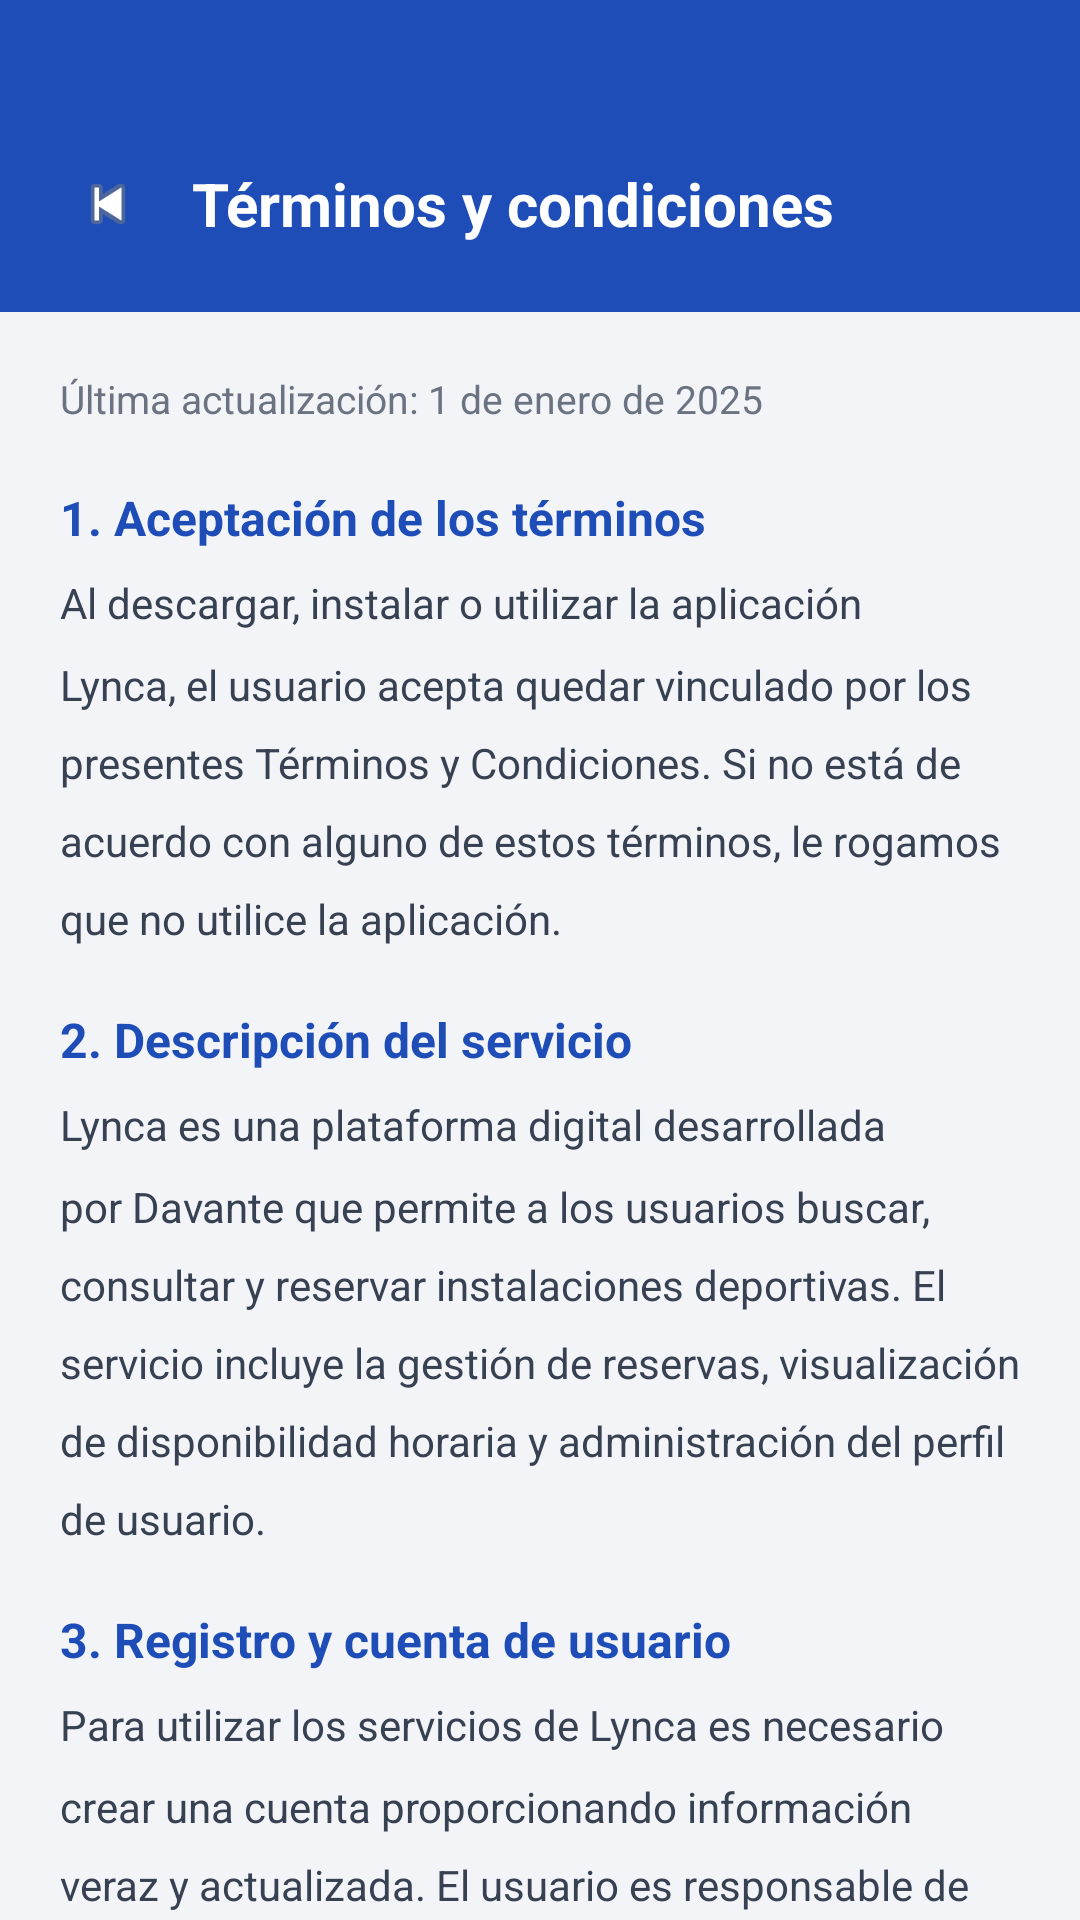

Point at icon controls on the screen. Image size 1080 × 1920, points as point (x, y).
previous: point (108, 204)
